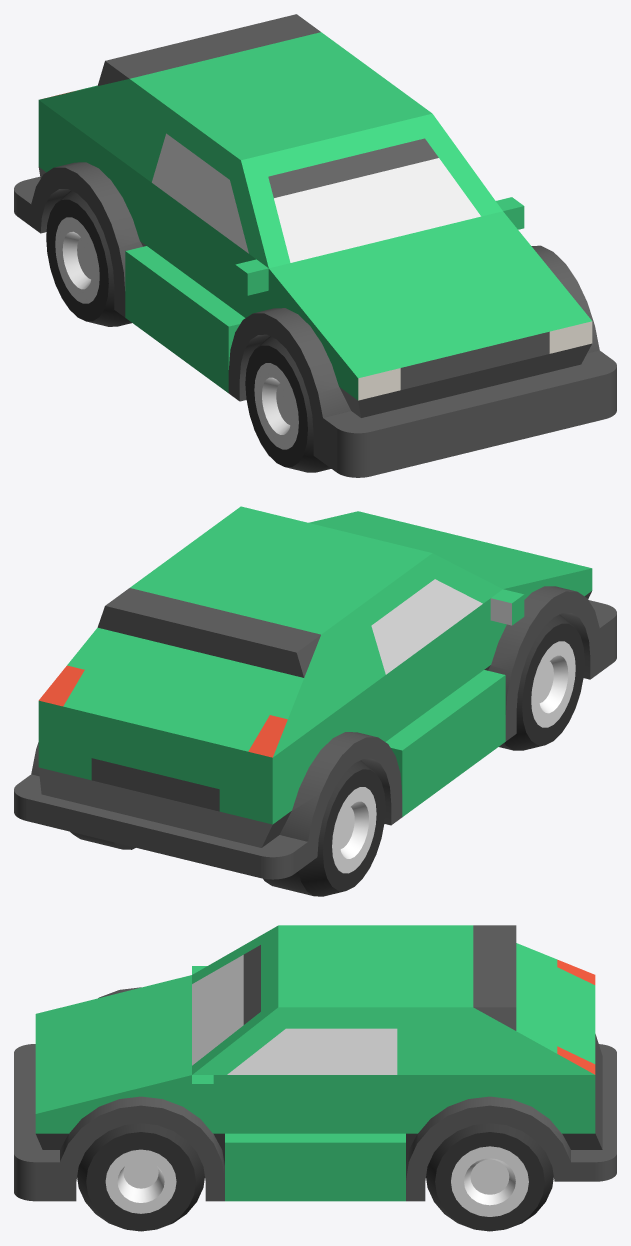
Rendered from hatchbackSports.fbx.
3 renders of one model, top to bottom at view 1: azimuth 30°, elevation 25°; view 2: azimuth 150°, elevation 25°; view 3: azimuth 270°, elevation 25°, orthographic. The views are drawn at different scales.
Parts seen in each view (by area): view 1: body, wheel_backRight, wheel_frontRight; view 2: body, wheel_backRight, wheel_frontRight; view 3: body, wheel_backLeft, wheel_frontLeft.
Part boxes in pixels (box(x1,y1,x2,y2)): body: box(14, 14, 616, 477); wheel_backRight: box(46, 190, 131, 326); wheel_frontRight: box(245, 336, 331, 472); body: box(14, 506, 616, 879); wheel_backRight: box(263, 760, 385, 896); wheel_frontRight: box(499, 614, 584, 750); body: box(14, 925, 616, 1201); wheel_backLeft: box(426, 1123, 553, 1231); wheel_frontLeft: box(77, 1123, 204, 1231).
Bounding box in the file's own units: 13 × 11 × 28.
